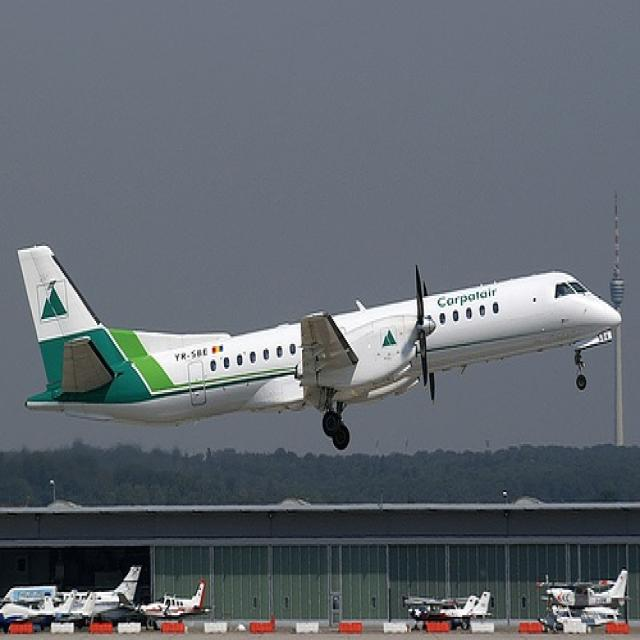aeroplane: (15, 238, 621, 456), (5, 563, 143, 623), (538, 559, 630, 623), (403, 586, 489, 629), (136, 576, 204, 622), (2, 592, 76, 626)
